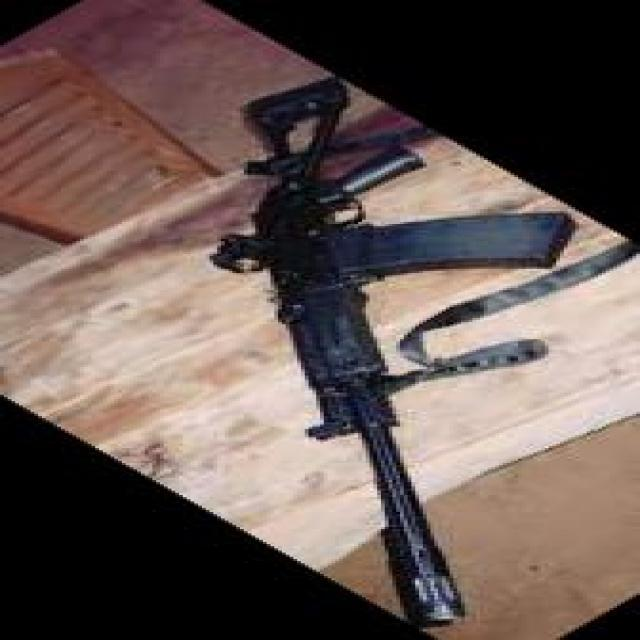weapon: (210, 76, 580, 628)
